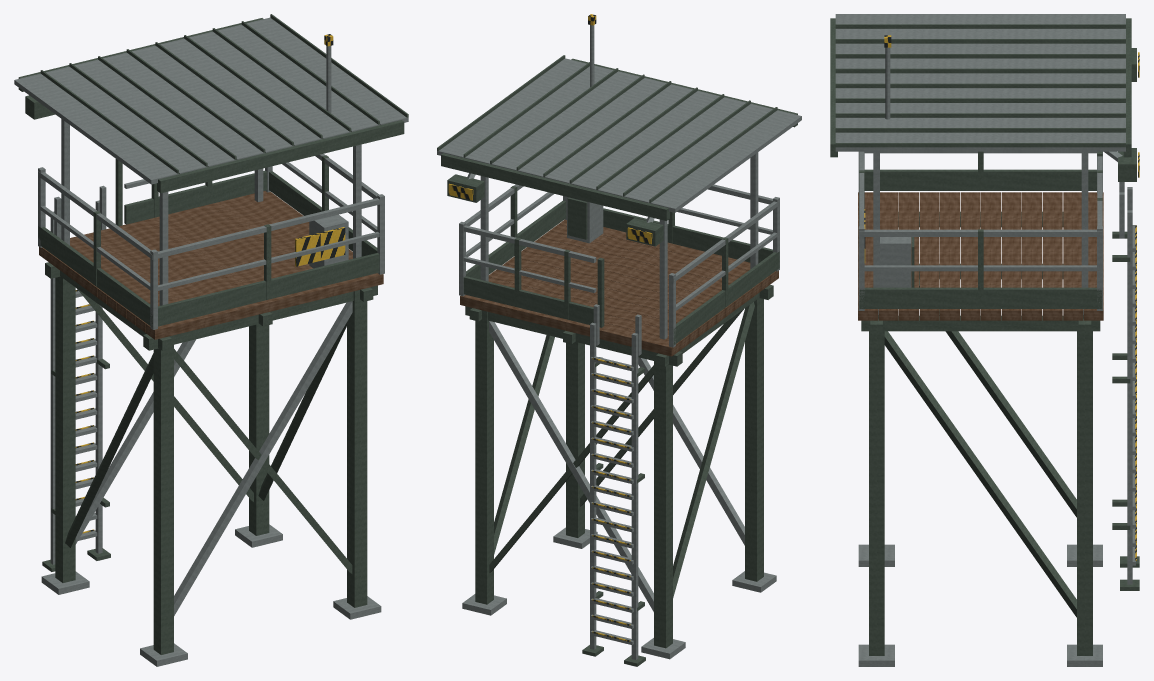
Rendered from PZ_Blackline_Watchtower_and_Ladder_Module.glb.
The picture shows the model from 3 angles, left to right: view 1: azimuth 30°, elevation 25°; view 2: azimuth 150°, elevation 25°; view 3: azimuth 270°, elevation 25°; orthographic projection. The views are drawn at different scales.
Visible parts, largest first — view 1: SM_Tower_West_Rear_SupportLeg, SM_Tower_East_Rear_SupportLeg, SM_Tower_West_Front_SupportLeg, SM_Tower_Toeboard_Rear_0, SM_Tower_Canopy_MetalPanel_00, SM_X_SideDiagonal_+1.32, SM_Tower_Canopy_RearFascia, SM_Tower_East_Front_SupportLeg, SM_Tower_Canopy_MetalPanel_03, SM_Tower_Canopy_MetalPanel_01, SM_Tower_Canopy_MetalPanel_02, SM_Tower_Canopy_MetalPanel_04 (+51 smaller); view 2: SM_Tower_West_Front_SupportLeg, SM_Tower_East_Front_SupportLeg, SM_Tower_West_Rear_SupportLeg, SM_Tower_Canopy_MetalPanel_00, SM_Tower_Canopy_FrontFascia, SM_Tower_East_Rear_SupportLeg, SM_Tower_Canopy_MetalPanel_08, SM_Tower_Canopy_MetalPanel_01, SM_Tower_Canopy_MetalPanel_03, SM_Tower_Canopy_MetalPanel_04, SM_Tower_Canopy_MetalPanel_05, SM_Tower_Canopy_MetalPanel_06 (+51 smaller); view 3: SM_Tower_Toeboard_East, SM_Tower_East_Front_SupportLeg, SM_Tower_East_Rear_SupportLeg, SM_Tower_Toeboard_West, SM_Tower_Canopy_MetalPanel_08, SM_Z_SideDiagonal_+1.50, SM_Tower_Canopy_MetalPanel_00, SM_Tower_Canopy_MetalPanel_04, SM_Tower_Canopy_MetalPanel_06, SM_Tower_Canopy_MetalPanel_02, SM_Tower_Canopy_MetalPanel_03, SM_Tower_Canopy_MetalPanel_05 (+40 smaller).
Part boxes in pixels (<box>): SM_Tower_West_Rear_SupportLeg: <box>153,335,173,654</box>; SM_Tower_East_Rear_SupportLeg: <box>347,290,367,607</box>; SM_Tower_West_Front_SupportLeg: <box>55,276,75,582</box>; SM_Tower_Toeboard_Rear_0: <box>158,253,379,326</box>; SM_Tower_Canopy_MetalPanel_00: <box>14,73,178,184</box>; SM_X_SideDiagonal_+1.32: <box>174,301,352,615</box>; SM_Tower_Canopy_RearFascia: <box>157,120,404,193</box>; SM_Tower_East_Front_SupportLeg: <box>249,324,269,535</box>; SM_Tower_Canopy_MetalPanel_03: <box>103,52,264,159</box>; SM_Tower_Canopy_MetalPanel_01: <box>46,66,207,173</box>; SM_Tower_Canopy_MetalPanel_02: <box>74,59,235,166</box>; SM_Tower_Canopy_MetalPanel_04: <box>132,45,293,152</box>; SM_Tower_West_Front_SupportLeg: <box>654,352,672,648</box>; SM_Tower_East_Front_SupportLeg: <box>475,310,493,604</box>; SM_Tower_West_Rear_SupportLeg: <box>745,298,763,581</box>; SM_Tower_Canopy_MetalPanel_00: <box>650,110,801,212</box>; SM_Tower_Canopy_FrontFascia: <box>441,153,669,220</box>; SM_Tower_East_Rear_SupportLeg: <box>566,342,584,537</box>; SM_Tower_Canopy_MetalPanel_08: <box>437,58,586,157</box>; SM_Tower_Canopy_MetalPanel_01: <box>623,103,772,202</box>; SM_Tower_Canopy_MetalPanel_03: <box>570,91,719,189</box>; SM_Tower_Canopy_MetalPanel_04: <box>543,84,692,183</box>; SM_Tower_Canopy_MetalPanel_05: <box>517,78,666,177</box>; SM_Tower_Canopy_MetalPanel_06: <box>490,71,639,170</box>; SM_Tower_Toeboard_East: <box>859,287,1102,308</box>; SM_Tower_East_Front_SupportLeg: <box>1077,315,1092,655</box>; SM_Tower_East_Rear_SupportLeg: <box>869,315,884,655</box>; SM_Tower_Toeboard_West: <box>864,169,1096,190</box>; SM_Tower_Canopy_MetalPanel_08: <box>835,132,1125,151</box>; SM_Z_SideDiagonal_+1.50: <box>884,331,1076,617</box>; SM_Tower_Canopy_MetalPanel_00: <box>835,14,1125,28</box>; SM_Tower_Canopy_MetalPanel_04: <box>835,73,1125,88</box>; SM_Tower_Canopy_MetalPanel_06: <box>835,103,1125,117</box>; SM_Tower_Canopy_MetalPanel_02: <box>835,43,1125,58</box>; SM_Tower_Canopy_MetalPanel_03: <box>835,58,1125,68</box>; SM_Tower_Canopy_MetalPanel_05: <box>835,88,1125,98</box>.
Bounding box in the file's own units: 3.99 × 8.54 × 3.93.
4 materials, 4 textured.
